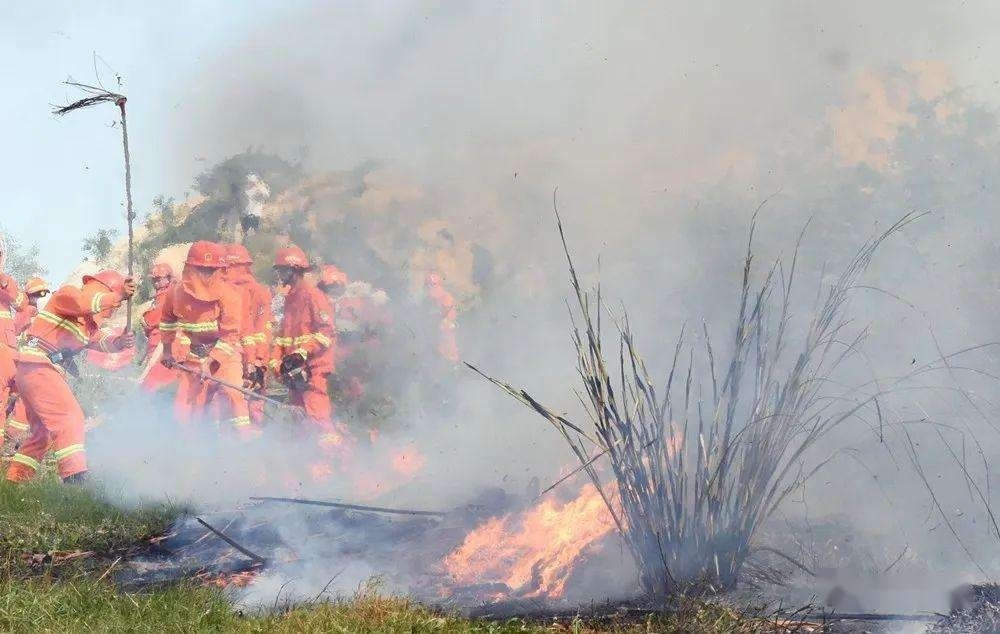fire: (436, 423, 693, 604), (289, 402, 421, 503)
